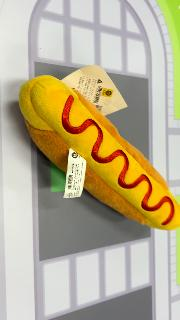hotdog: (19, 75, 180, 232)
